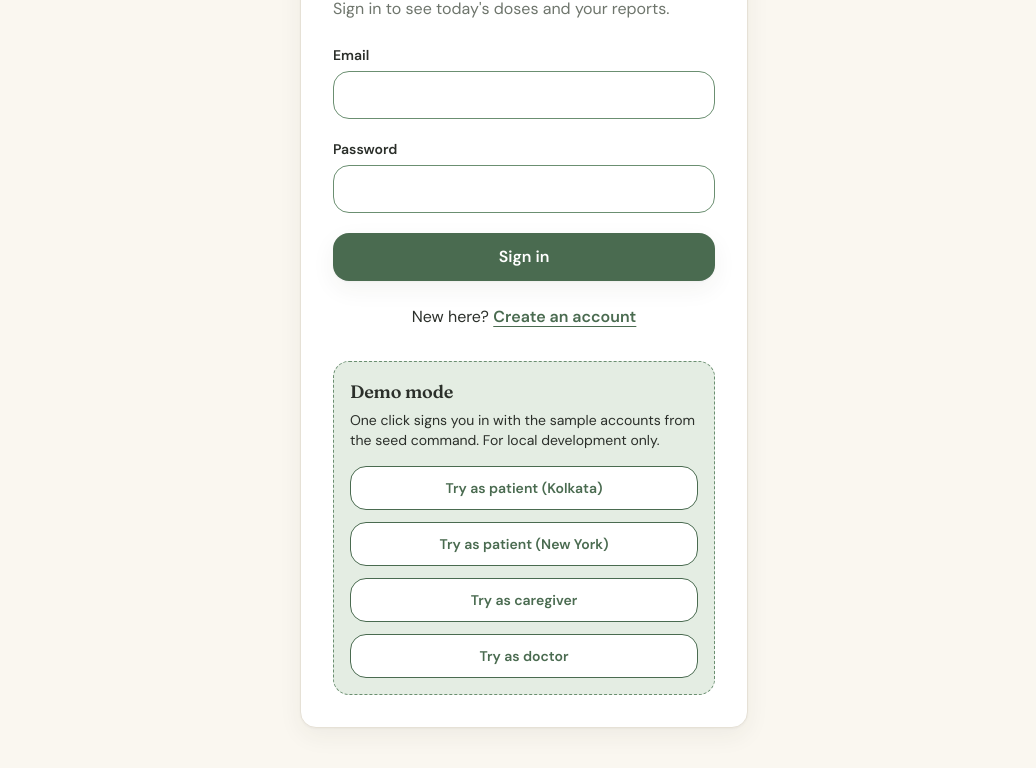
Scenario: LoginPage in demo mode › Try as doctor signs in as the seed_demo account and lands on the role home
(page scrolled)
Click the button "Try as doctor" at point(524, 656), box top-left (350, 634), bottom-right (698, 678)
(page scrolled)
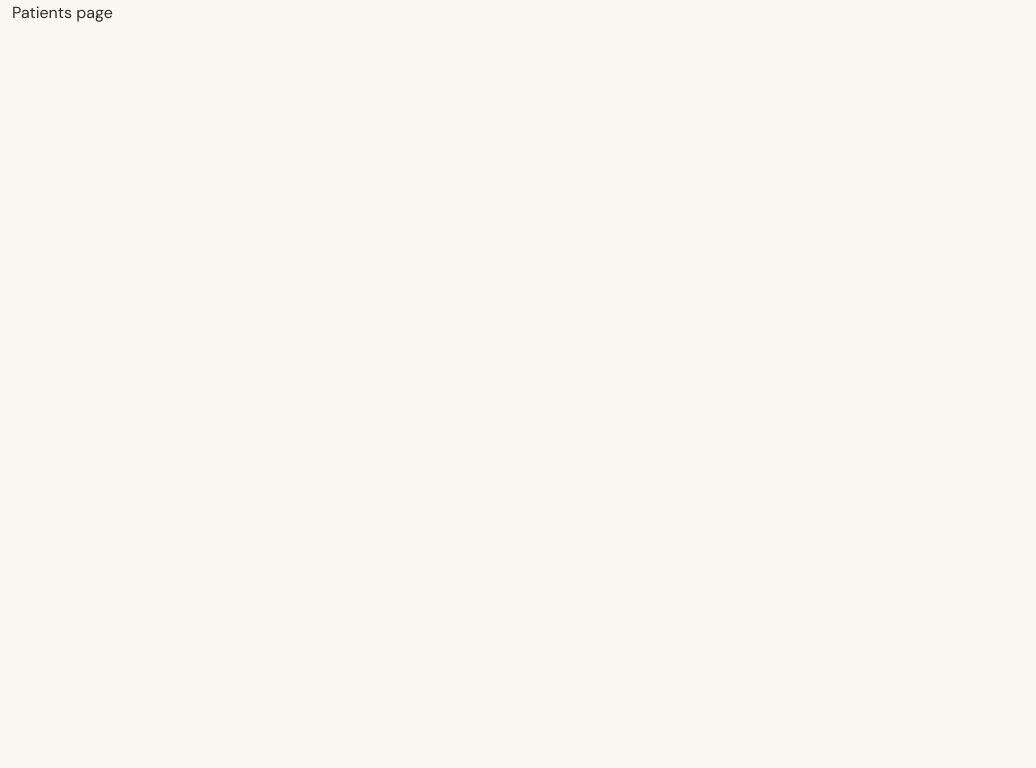
Check: the text "Patients page" is shown, box top-left (12, 2), bottom-right (113, 23)
